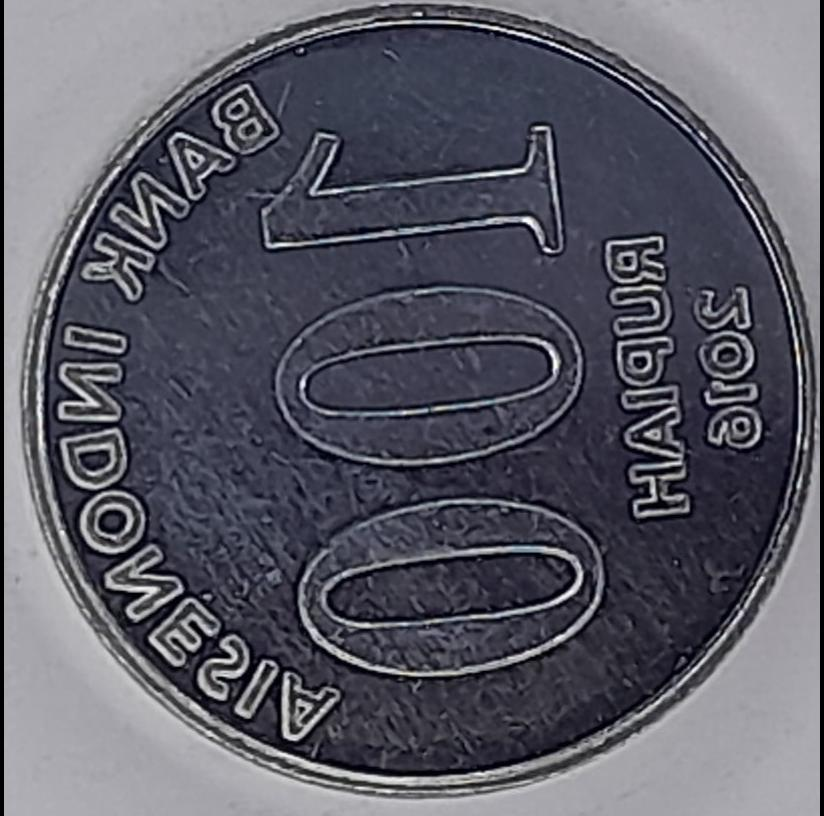coin_100_e2016: (15, 0, 821, 802)
